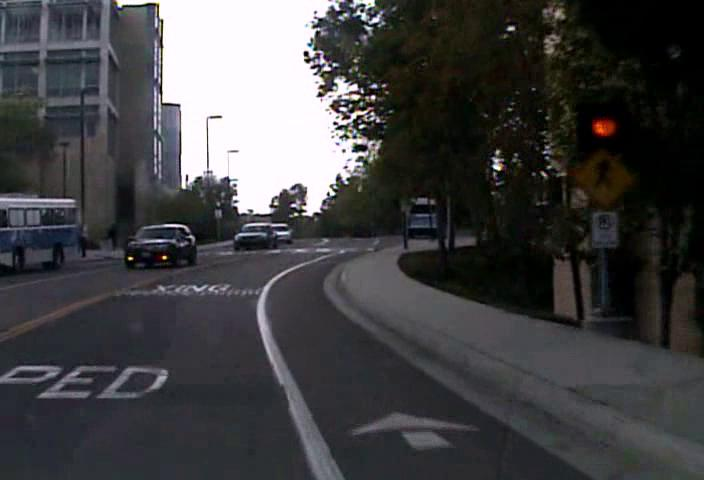pedestrianCrossing: (568, 146, 633, 208)
